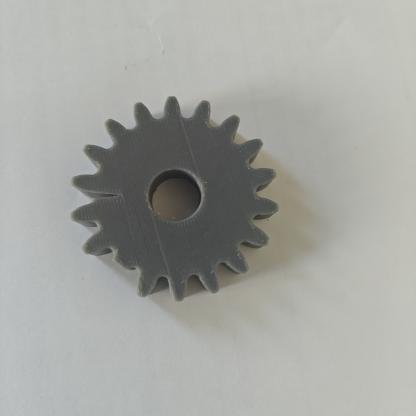defect: (61, 170, 133, 228), (101, 242, 150, 289)
gear: (45, 84, 319, 314)
